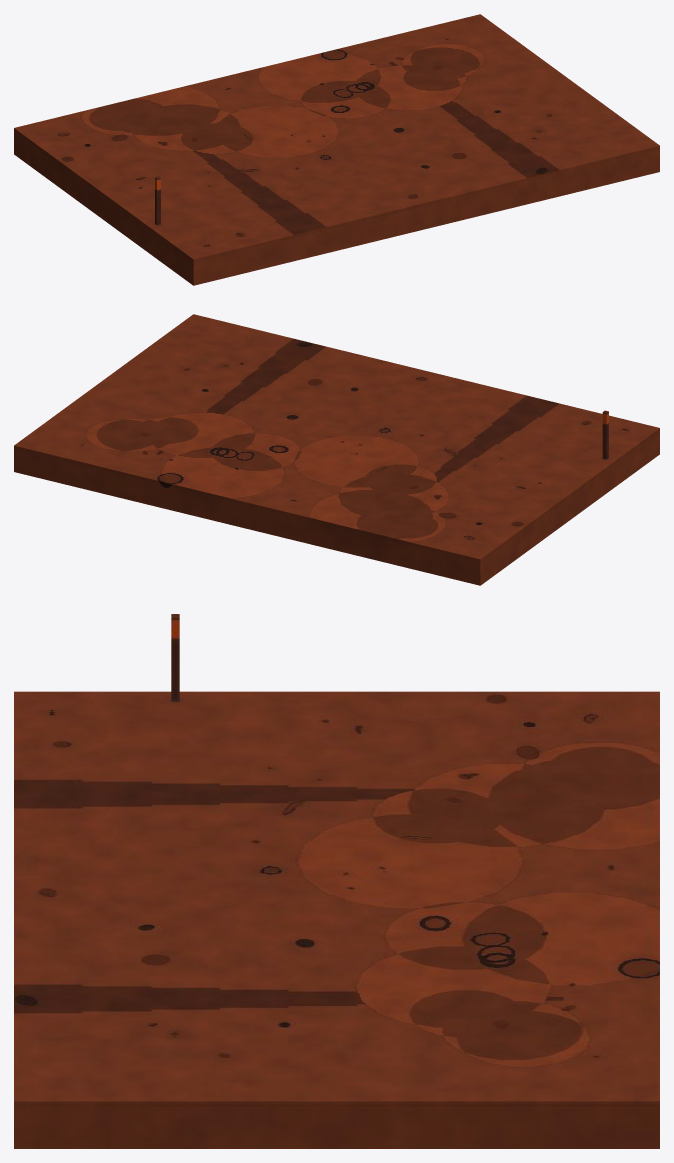
Rendered from road_end.glb.
3 renders of one model, top to bottom at view 1: azimuth 30°, elevation 25°; view 2: azimuth 150°, elevation 25°; view 3: azimuth 270°, elevation 25°, orthographic. The views are drawn at different scales.
Parts seen in each view (by area): view 1: road_end; view 2: road_end; view 3: road_end.
Boxes of the visible parts, x1,y1,x2,y2 form: road_end: (14, 14, 659, 285); road_end: (14, 314, 659, 585); road_end: (14, 614, 659, 1148).
Bounding box in the file's own units: 6 × 0.9 × 4.
Materials: 1 (1 with a texture image).
